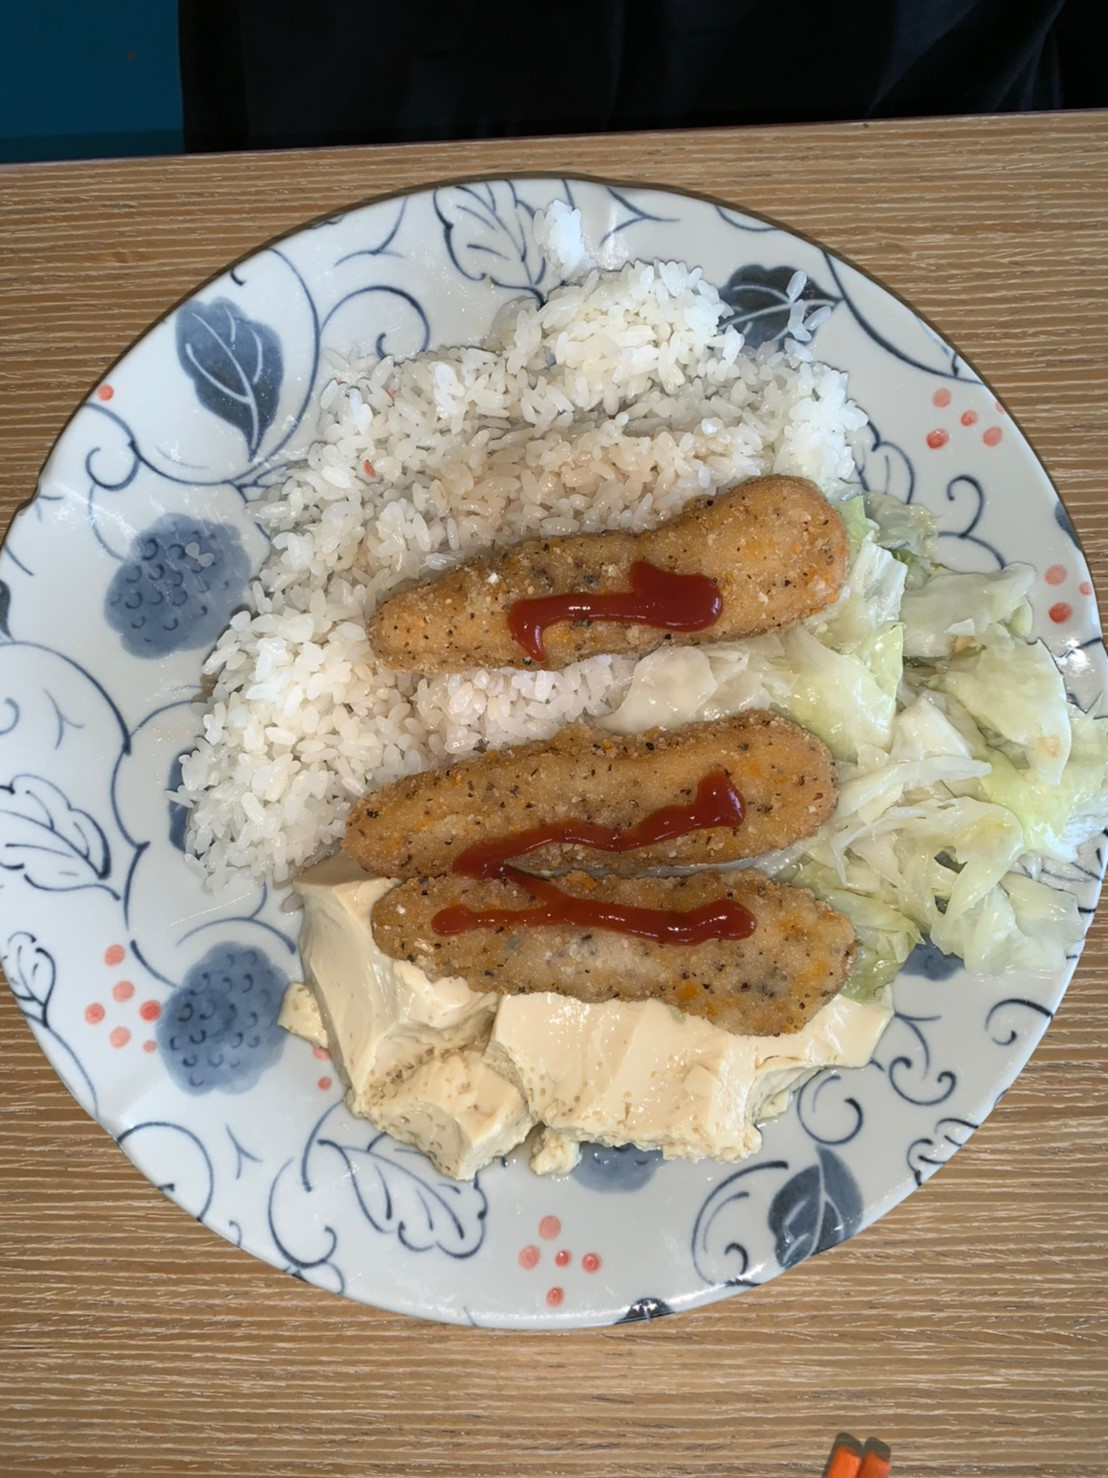chinese_cabbage: (837, 486, 1098, 985)
rice: (308, 262, 732, 566)
